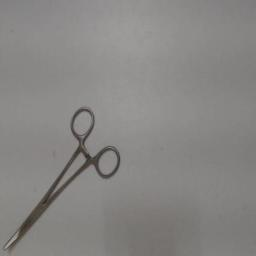Crile Artery Forceps: (2, 103, 122, 253)
